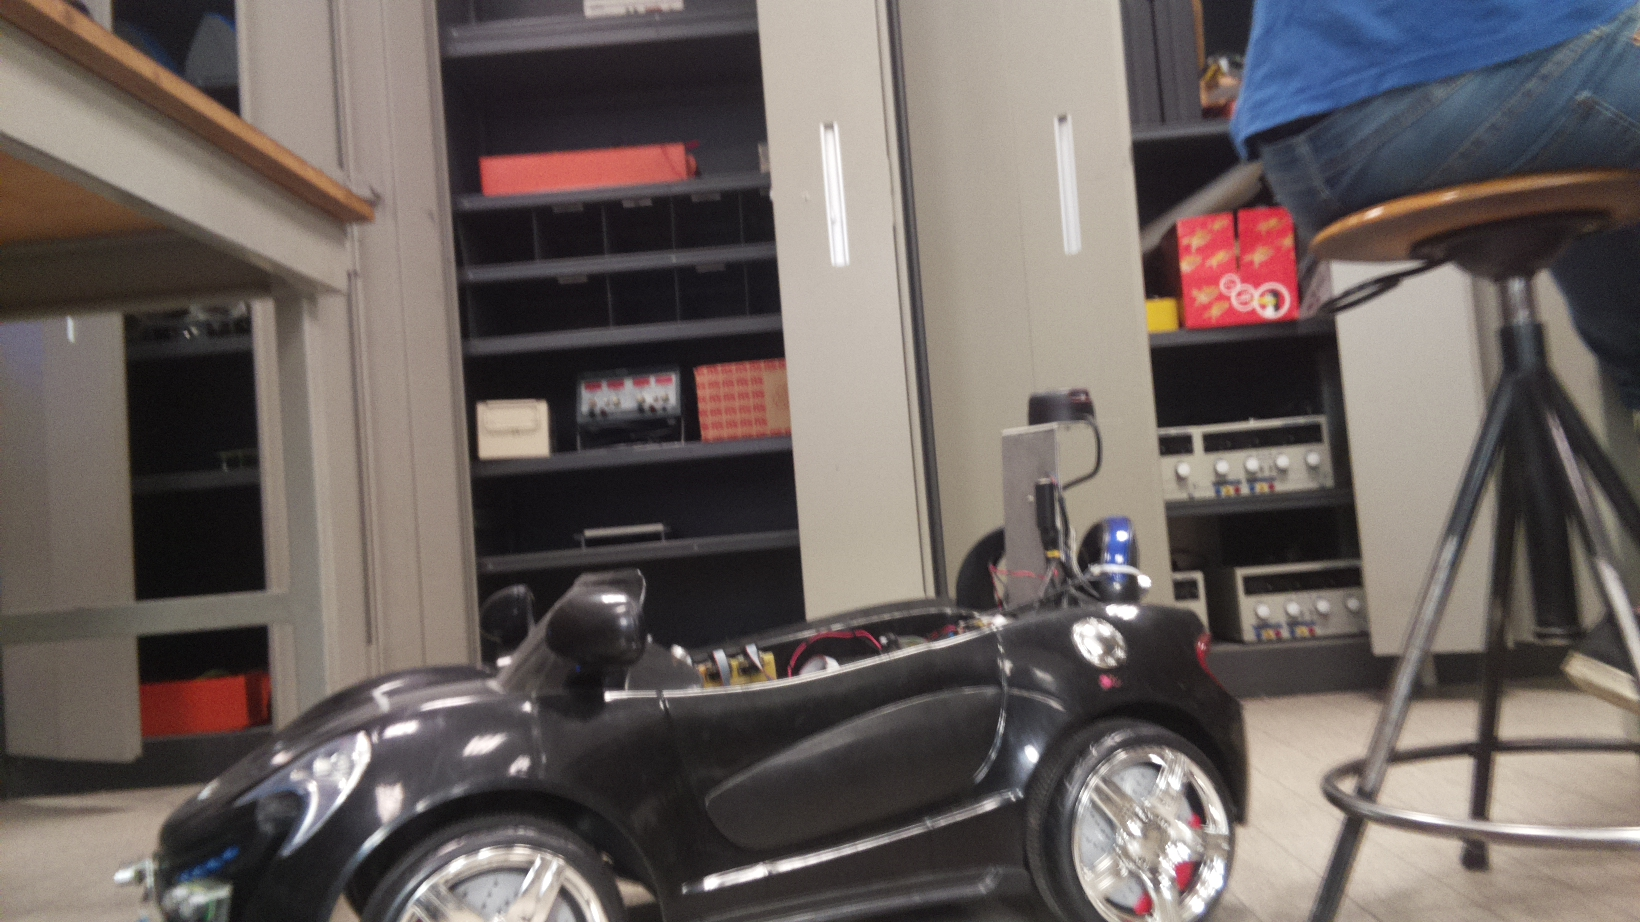big: (114, 513, 1262, 922)
